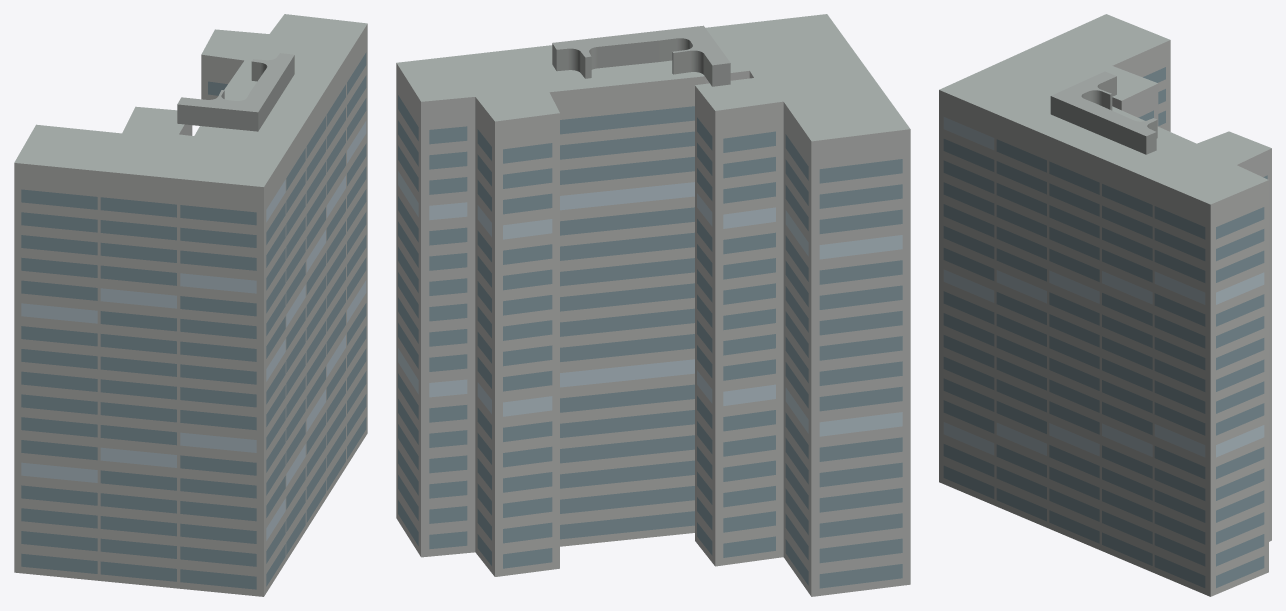
File: fallback-godeok-central-ipark-515.glb
3 views of the same model, side by side, from view 1: azimuth 30°, elevation 25°; view 2: azimuth 150°, elevation 25°; view 3: azimuth 270°, elevation 25° (orthographic). The views are drawn at different scales.
Visible parts, largest first — view 1: fallback-godeok-central-ipark-515; view 2: fallback-godeok-central-ipark-515; view 3: fallback-godeok-central-ipark-515.
Part boxes in pixels (x1,y1,x2,y2): fallback-godeok-central-ipark-515: (14,14,367,596); fallback-godeok-central-ipark-515: (396,14,910,596); fallback-godeok-central-ipark-515: (939,14,1271,596).
Size of the model in its own units: 52.74 by 53 by 38.93.
